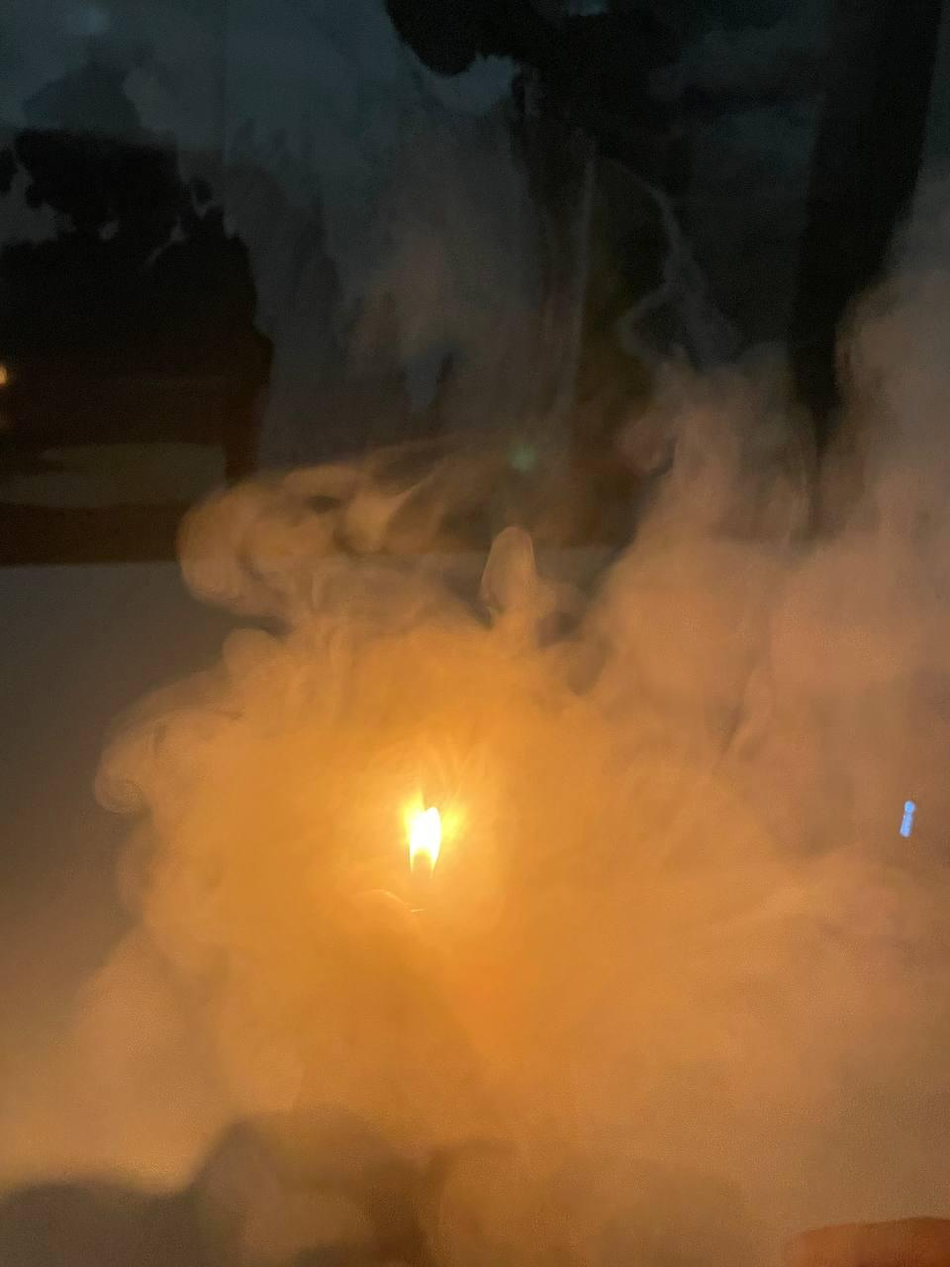fire: (389, 773, 458, 887)
smoke: (104, 450, 950, 1267), (110, 17, 950, 506)
